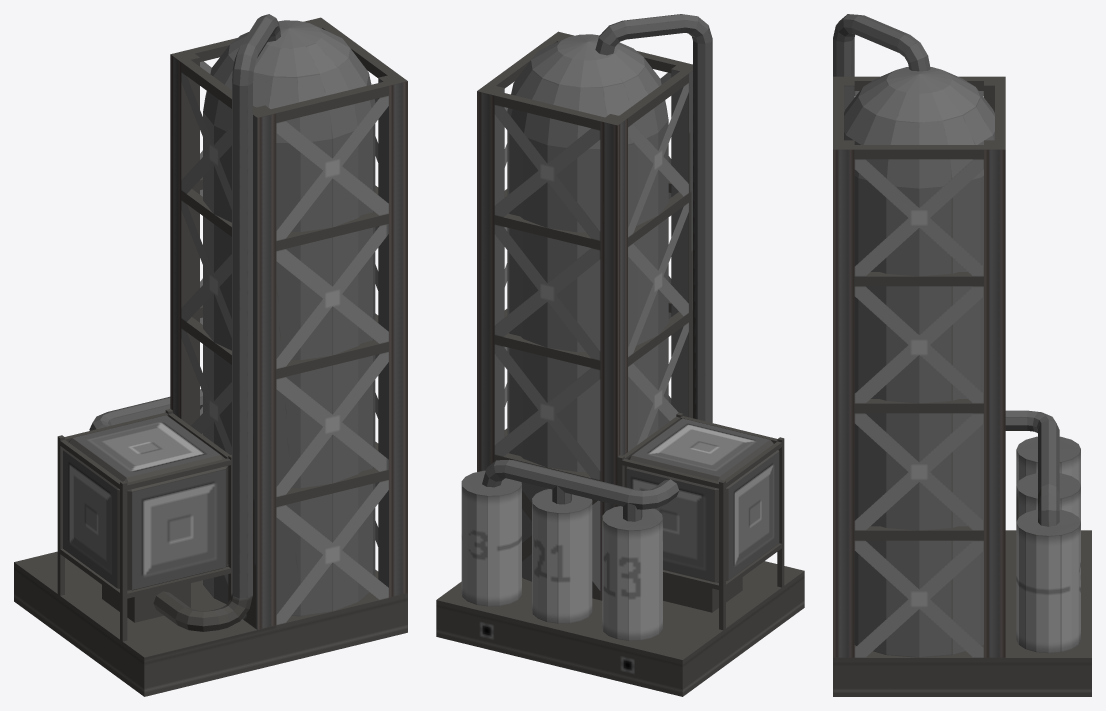
The model's file is catalytic_cracking_tower.obj.
The picture shows the model from 3 angles, left to right: view 1: azimuth 30°, elevation 25°; view 2: azimuth 150°, elevation 25°; view 3: azimuth 270°, elevation 25°; orthographic projection. The views are drawn at different scales.
Visible parts, largest first — view 1: Cube_Cube.001; view 2: Cube_Cube.001; view 3: Cube_Cube.001.
Boxes of the visible parts, x1,y1,x2,y2 form: Cube_Cube.001: [14, 14, 407, 696]; Cube_Cube.001: [436, 14, 804, 696]; Cube_Cube.001: [833, 14, 1091, 696].
Size of the model in its own units: 7 by 15.62 by 6.
